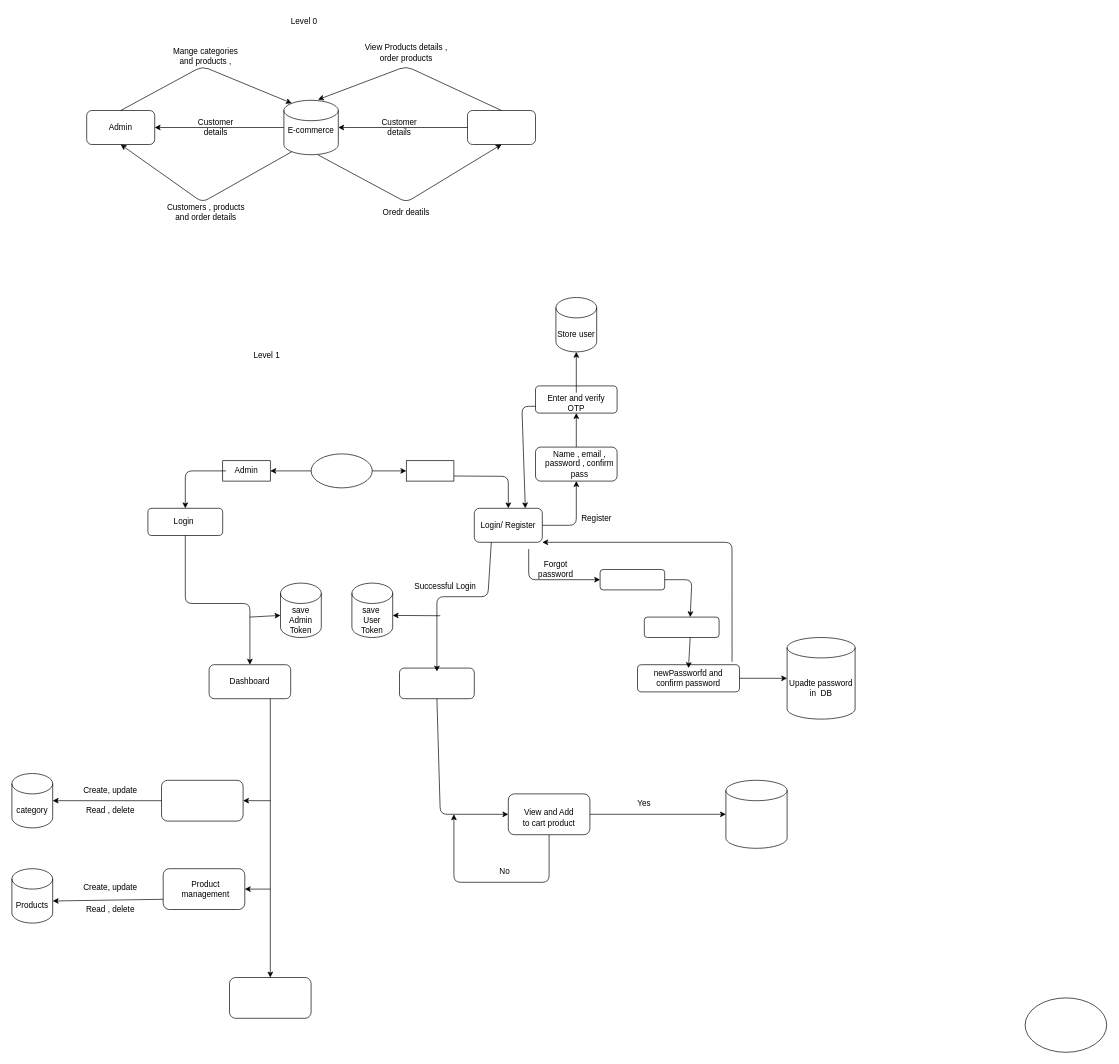
Image size: 1119x1064. Some labels were removed from this diagram. Each missing label, with the centre of its shape:
Add product in cart: [756,814]
Category managemet: [202,800]
Customer: [501,127]
Enter Email: [632,579]
Home: [436,683]
Start: [341,470]
User: [430,470]
Users Informations: [270,997]
Verify Otp: [681,627]
